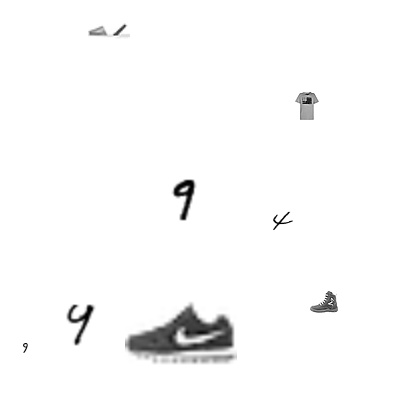0: (77, 196, 161, 280)
3: (343, 365, 385, 407)
4: (295, 117, 337, 159)
8: (47, 62, 69, 84)
Coat: (192, 365, 234, 407)
Pullover: (167, 15, 223, 71), (220, 273, 248, 301)
Shirt: (231, 191, 287, 247)
Trouser: (298, 280, 382, 364), (46, 222, 68, 244)
